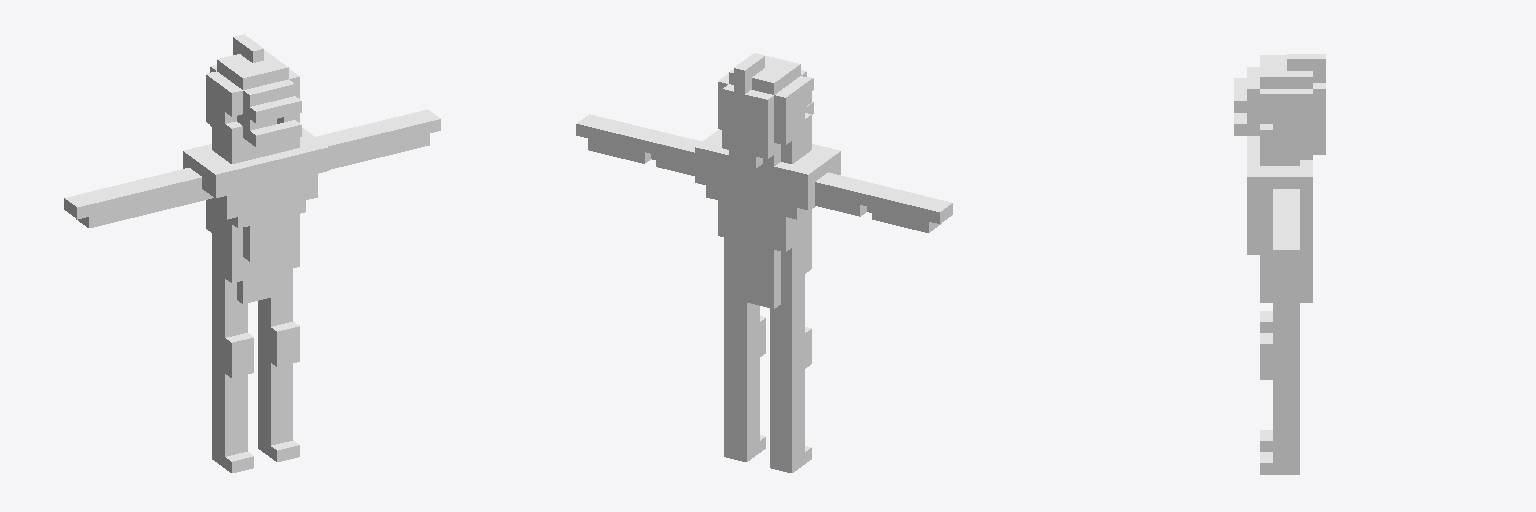
The model's file is Character4.obj.
3 renders of one model, left to right at view 1: azimuth 30°, elevation 25°; view 2: azimuth 150°, elevation 25°; view 3: azimuth 270°, elevation 25°, orthographic.
Parts seen in each view (by area): view 1: Character03_Mesh.003; view 2: Character03_Mesh.003; view 3: Character03_Mesh.003.
Boxes of the visible parts, box(x1,y1,x2,y2) form: Character03_Mesh.003: box(64, 34, 440, 472); Character03_Mesh.003: box(576, 53, 952, 472); Character03_Mesh.003: box(1234, 54, 1325, 474).
Size of the model in its own units: 12.15 by 12.91 by 2.66.